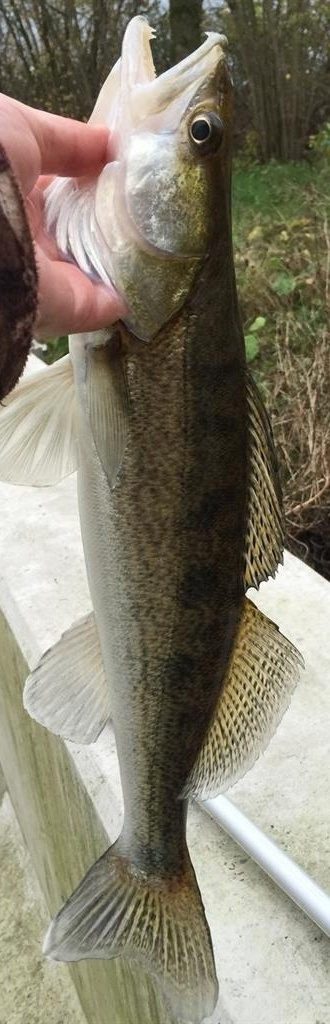Sander lucioperca: (20, 11, 310, 1024)
